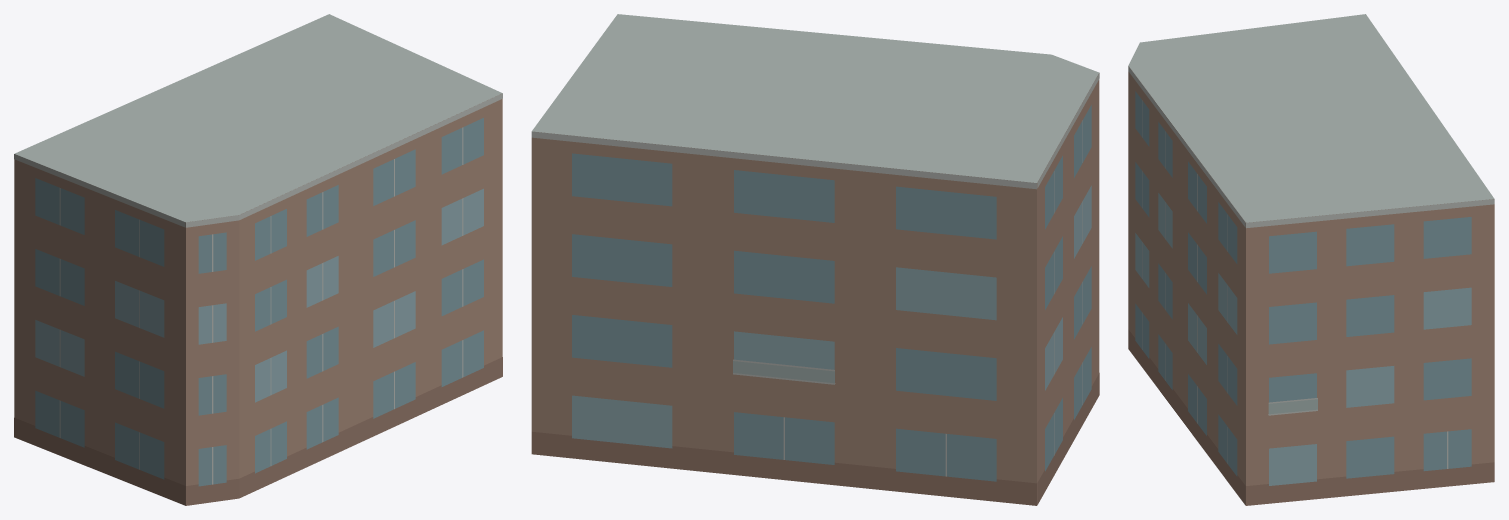
The model's file is survey-upis-32607285.glb.
3 renders of one model, left to right at view 1: azimuth 30°, elevation 25°; view 2: azimuth 150°, elevation 25°; view 3: azimuth 270°, elevation 25°, orthographic. The views are drawn at different scales.
Parts seen in each view (by area): view 1: survey-upis-32607285.tmp; view 2: survey-upis-32607285.tmp; view 3: survey-upis-32607285.tmp.
Boxes of the visible parts, bbox=[...] form: survey-upis-32607285.tmp: bbox=[14, 14, 502, 505]; survey-upis-32607285.tmp: bbox=[531, 14, 1099, 505]; survey-upis-32607285.tmp: bbox=[1128, 14, 1494, 505].
Size of the model in its own units: 20.1 by 12.7 by 14.9.
